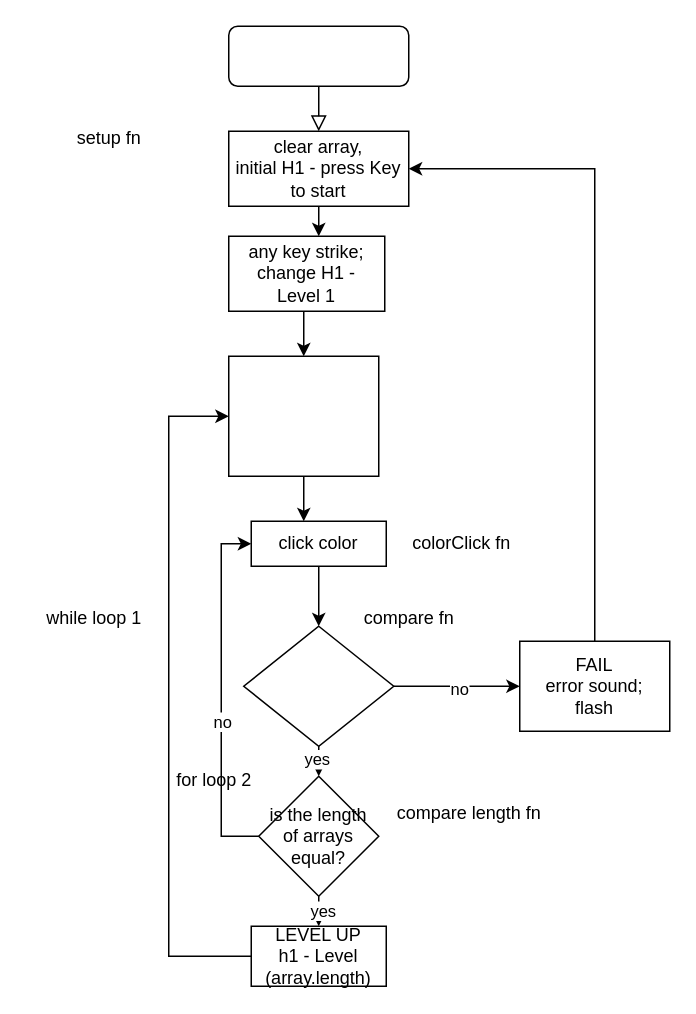
Image size: 696x1014. Some labels were removed from this diagram. The shapes that lost their labels are listed below. From the top down, each one's centre as x and y in pixels, then its label:
At pixel 318 55: "Game starts".
At pixel 303 415: "add random color to orig array; sound; animate;".
At pixel 318 685: "click the right color? compare arrays slices".
